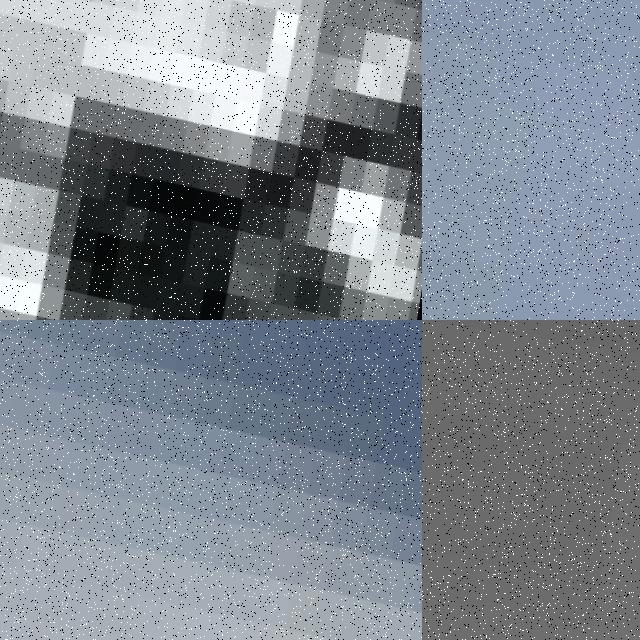drone: (0, 0, 422, 320), (0, 320, 422, 640), (422, 0, 640, 320)
